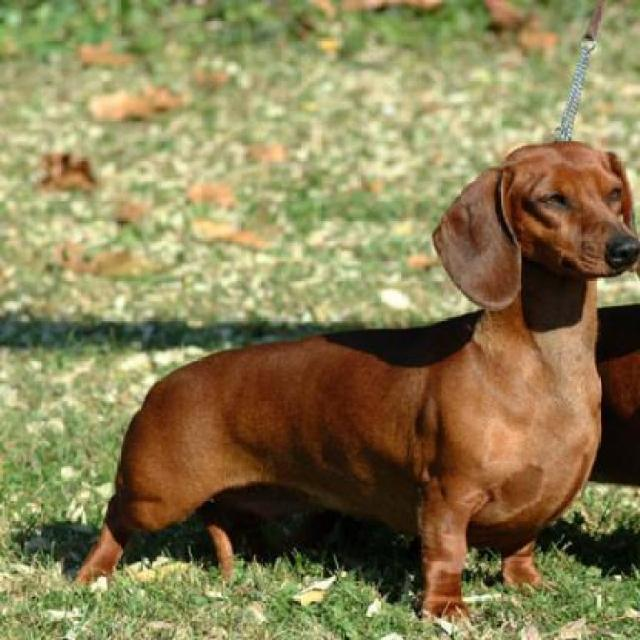Dog: (85, 124, 637, 622)
